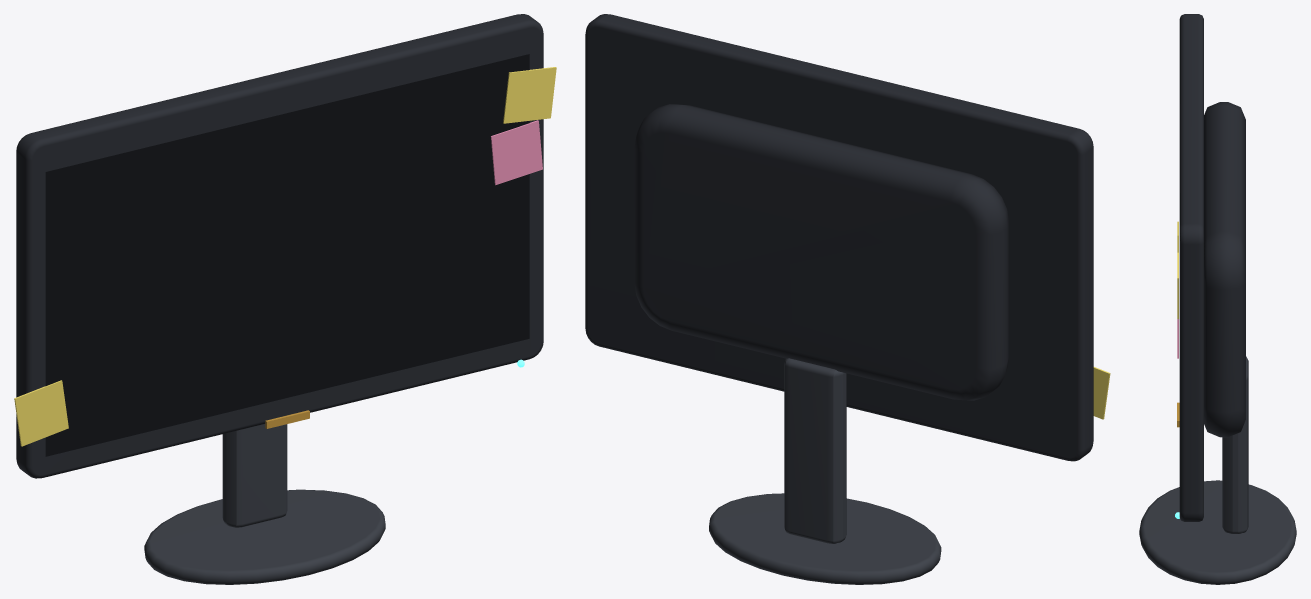
Rendered from RmMonitor.fbx.
The picture shows the model from 3 angles, left to right: view 1: azimuth 30°, elevation 25°; view 2: azimuth 150°, elevation 25°; view 3: azimuth 270°, elevation 25°; orthographic projection. The views are drawn at different scales.
Parts seen in each view (by area): view 1: Screen, RmMonitorBody; view 2: RmMonitorBody; view 3: RmMonitorBody.
Boxes of the visible parts, x1,y1,x2,y2 form: Screen: (45,54,529,456); RmMonitorBody: (14,14,556,584); RmMonitorBody: (585,14,1110,584); RmMonitorBody: (1139,14,1296,584).
Size of the model in its own units: 0.6267 by 0.5295 by 0.18.
